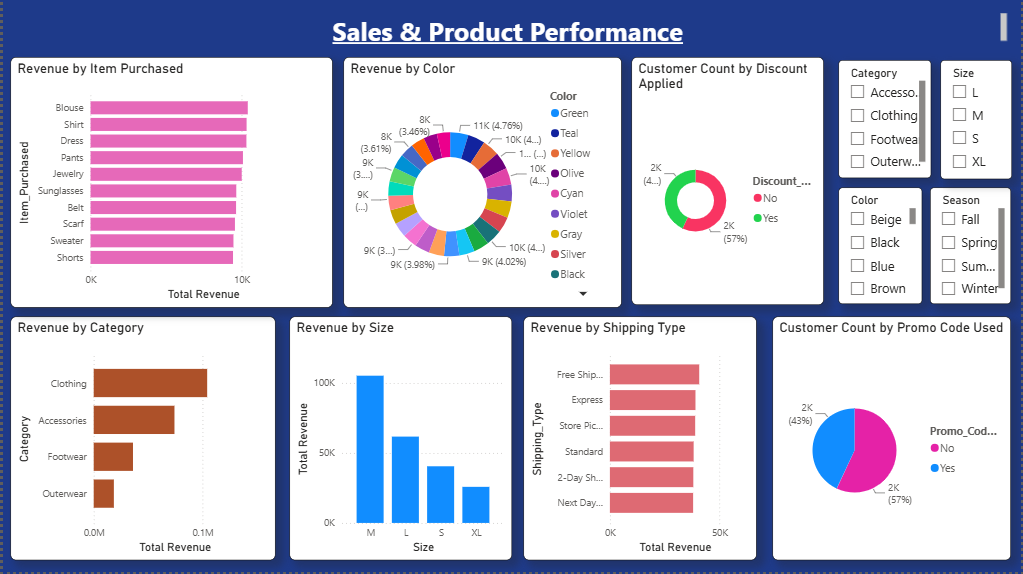

What the dashboard file says about the page in this screenshot:
{"tool":"powerbi","page":{"name":"Sales & Product Performance Objective","canvas":[1280,720],"ordinal":2},"visuals":[{"type":"clusteredBarChart","title":"Revenue by Category","fields":{"Category":["shopping_trends_updated.Category"],"Y":["shopping_trends_updated.Total Revenue"]},"box":[10,398.3,333.3,306.7],"z":0},{"type":"clusteredBarChart","title":"Revenue by Item Purchased","fields":{"Category":["shopping_trends_updated.Item_Purchased"],"Y":["shopping_trends_updated.Total Revenue"]},"box":[10,71.7,405,315],"z":1000},{"type":"donutChart","title":"Revenue by Color","fields":{"Category":["shopping_trends_updated.Color"],"Y":["shopping_trends_updated.Total Revenue"]},"box":[428.3,71.7,350,315],"z":2000},{"type":"clusteredColumnChart","title":"Revenue by Size","fields":{"Y":["shopping_trends_updated.Total Revenue"],"Category":["shopping_trends_updated.Size"]},"box":[360,398.3,280,306.7],"z":3000},{"type":"clusteredBarChart","title":"Revenue by Shipping Type","fields":{"Category":["shopping_trends_updated.Shipping_Type"],"Y":["shopping_trends_updated.Total Revenue"]},"box":[655,398.3,293.3,306.7],"z":4000},{"type":"donutChart","title":"Customer Count by Discount Applied","fields":{"Category":["shopping_trends_updated.Discount_Applied"],"Y":["shopping_trends_updated.Customer Count"]},"box":[790,71.7,241.7,311.7],"z":5000},{"type":"pieChart","title":"Customer Count by Promo Code Used","fields":{"Category":["shopping_trends_updated.Promo_Code_Used"],"Y":["shopping_trends_updated.Customer Count"]},"box":[968.3,398.3,300,306.7],"z":6000},{"type":"slicer","fields":{"Values":["shopping_trends_updated.Category"]},"box":[1050,75,116.7,148.3],"z":7000},{"type":"slicer","fields":{"Values":["shopping_trends_updated.Color"]},"box":[1050,236.7,105,146.7],"z":8000},{"type":"slicer","fields":{"Values":["shopping_trends_updated.Season"]},"box":[1166.7,236.7,101.7,146.7],"z":9000},{"type":"slicer","fields":{"Values":["shopping_trends_updated.Size"]},"box":[1178.3,75,90,150],"z":10000},{"type":"textbox","box":[10,11.7,1258.3,48.3],"z":11000}]}

Visuals, with their boxes in screenshot pixels (x1, y1, x2, y2), scaled from the page's 1280x720 canvas onto the 1023x574 screenshot:
"Revenue by Category" clusteredBarChart: Rect(8, 318, 274, 562)
"Revenue by Item Purchased" clusteredBarChart: Rect(8, 57, 332, 308)
"Revenue by Color" donutChart: Rect(342, 57, 622, 308)
"Revenue by Size" clusteredColumnChart: Rect(288, 318, 512, 562)
"Revenue by Shipping Type" clusteredBarChart: Rect(523, 318, 758, 562)
"Customer Count by Discount Applied" donutChart: Rect(631, 57, 825, 306)
"Customer Count by Promo Code Used" pieChart: Rect(774, 318, 1014, 562)
slicer - shopping_trends_updated.Category: Rect(839, 60, 932, 178)
slicer - shopping_trends_updated.Color: Rect(839, 189, 923, 306)
slicer - shopping_trends_updated.Season: Rect(932, 189, 1014, 306)
slicer - shopping_trends_updated.Size: Rect(942, 60, 1014, 179)
textbox: Rect(8, 9, 1014, 48)
